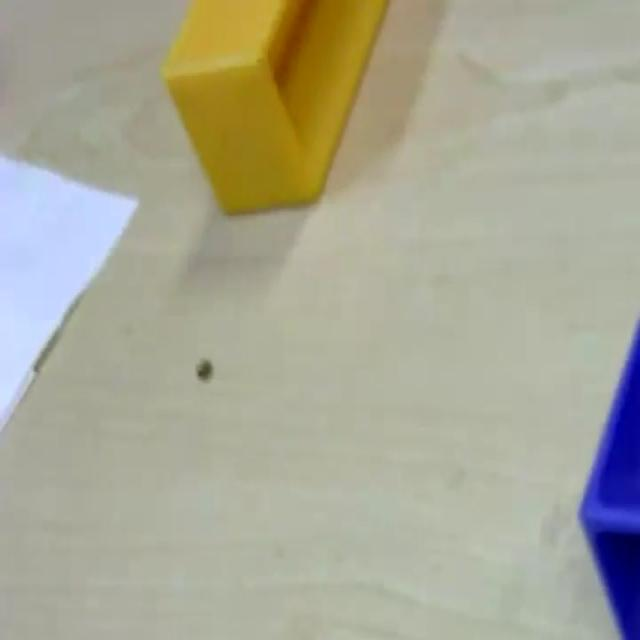blue_block: (577, 315, 638, 636)
yellow_block: (159, 0, 389, 216)
